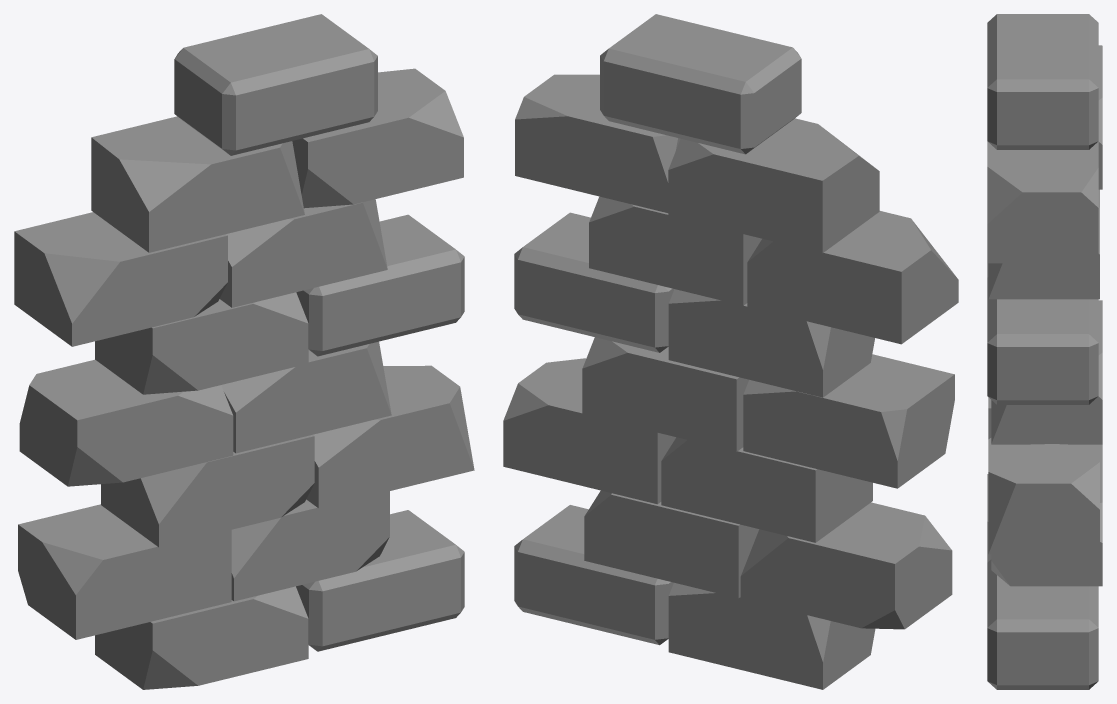
File: BrickWall_01.fbx
The picture shows the model from 3 angles, left to right: view 1: azimuth 30°, elevation 25°; view 2: azimuth 150°, elevation 25°; view 3: azimuth 270°, elevation 25°; orthographic projection. The views are drawn at different scales.
Visible parts, largest first — view 1: BrickWall_01; view 2: BrickWall_01; view 3: BrickWall_01.
Boxes of the visible parts, <box> form: BrickWall_01: <box>14,14,474,689</box>; BrickWall_01: <box>503,14,958,689</box>; BrickWall_01: <box>987,14,1102,689</box>.
Bounding box in the file's own units: 226 × 317 × 58.26.
